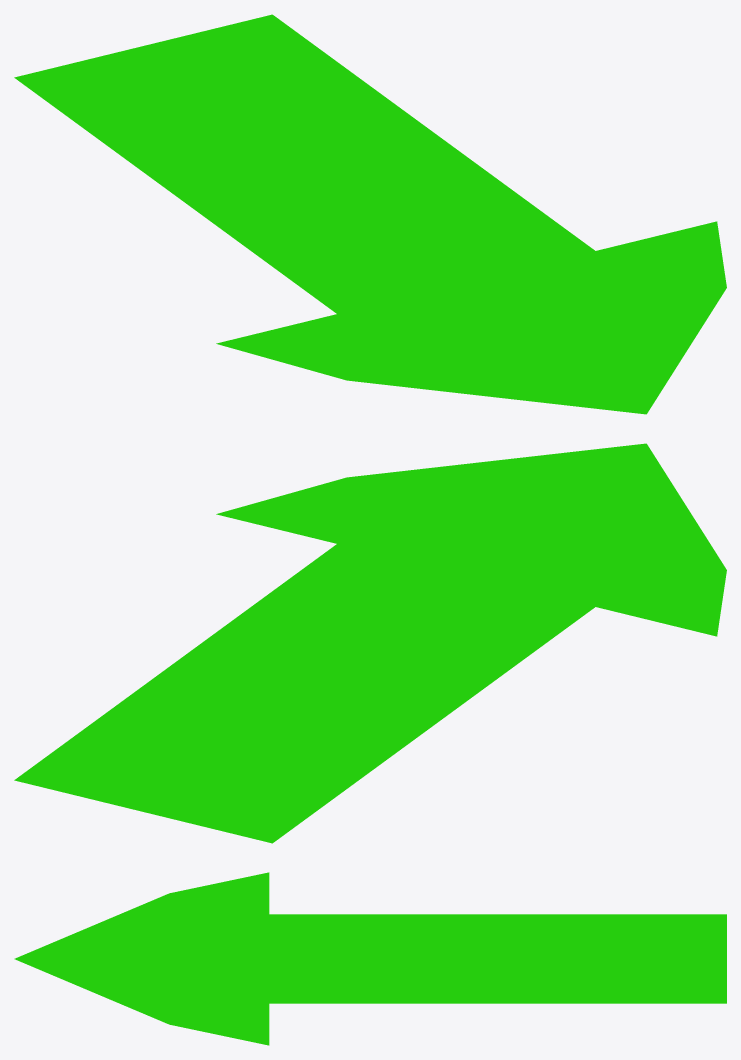
File: Arrow.fbx
3 views of the same model, one above another, from view 1: azimuth 30°, elevation 25°; view 2: azimuth 150°, elevation 25°; view 3: azimuth 270°, elevation 25° (orthographic). The views are drawn at different scales.
Parts seen in each view (by area): view 1: Plane; view 2: Plane; view 3: Plane.
Part boxes in pixels (box(x1,y1,x2,y2)): Plane: box(14, 14, 726, 414); Plane: box(14, 443, 726, 843); Plane: box(14, 872, 726, 1045).
Bounding box in the file's own units: 42.84 × 1.21e-05 × 74.47.
